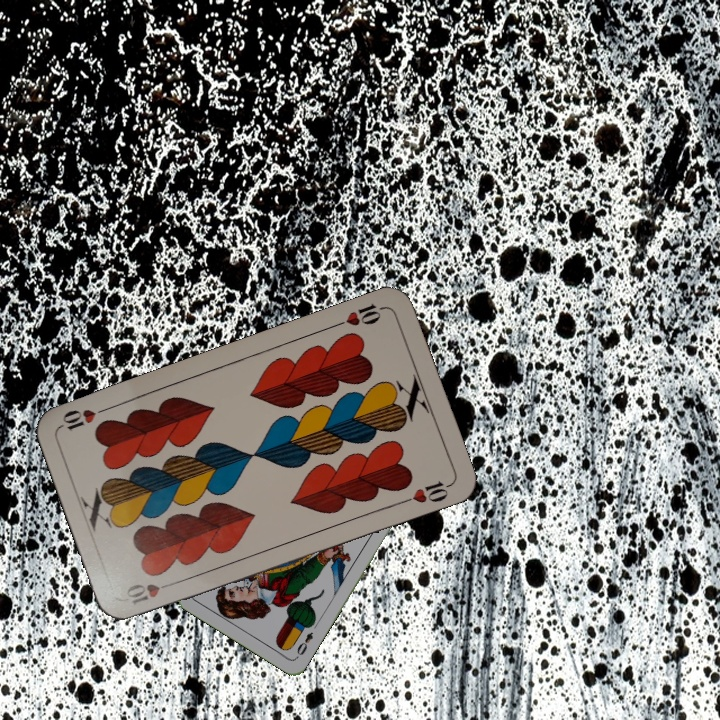EO: (292, 628, 316, 661)
H10: (331, 299, 388, 330), (122, 577, 179, 607)
